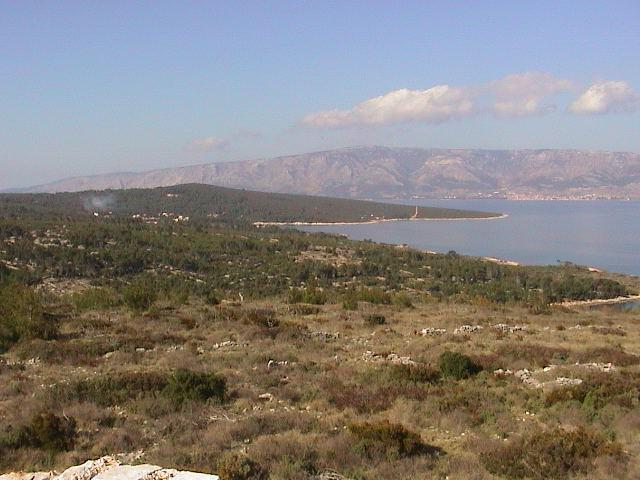Smoke: (80, 190, 126, 219)
